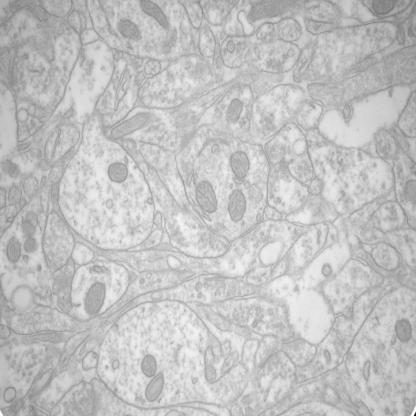mitochondria: (140, 0, 170, 30), (84, 281, 107, 319), (195, 181, 219, 215), (143, 371, 166, 404), (227, 188, 247, 224), (229, 150, 251, 180), (117, 18, 143, 43), (224, 98, 244, 126), (5, 236, 23, 266), (394, 318, 413, 343), (107, 162, 128, 184), (140, 354, 158, 379)
